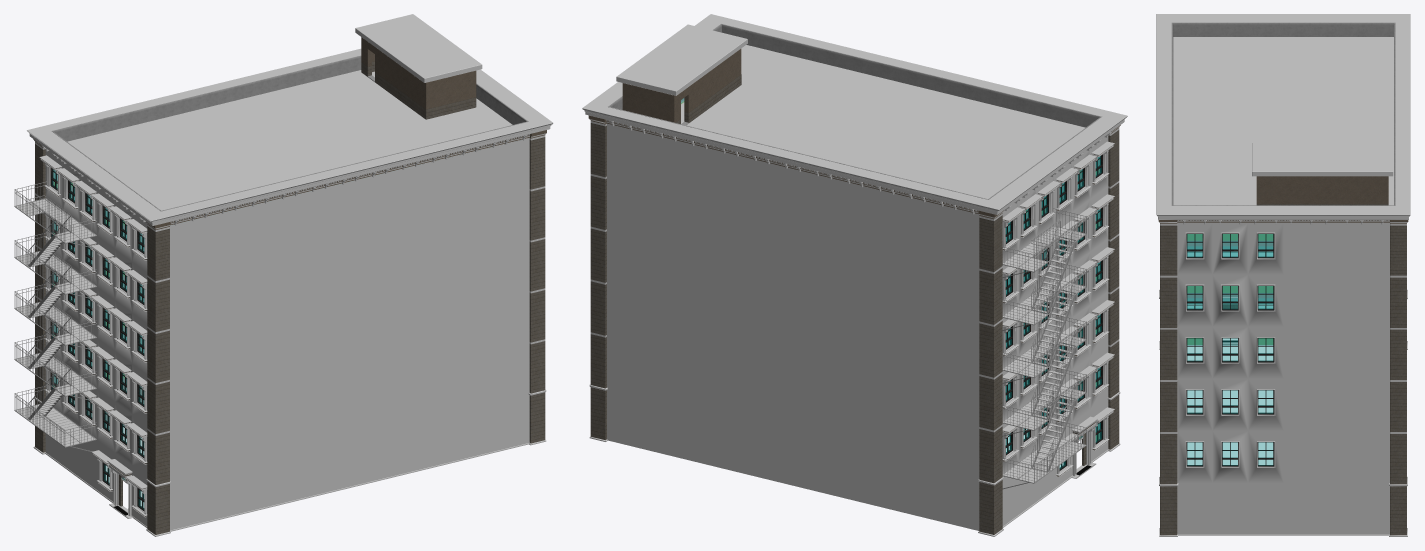
Rendered from SM_Building08_V3.fbx.
3 views of the same model, side by side, from view 1: azimuth 30°, elevation 25°; view 2: azimuth 150°, elevation 25°; view 3: azimuth 270°, elevation 25° (orthographic). The views are drawn at different scales.
Parts seen in each view (by area): view 1: SM_Building08_V3; view 2: SM_Building08_V3; view 3: SM_Building08_V3.
Part boxes in pixels (<box>): SM_Building08_V3: <box>14,14,553,536</box>; SM_Building08_V3: <box>582,14,1127,536</box>; SM_Building08_V3: <box>1156,14,1410,536</box>.
Bounding box in the file's own units: 3541 × 2768 × 1791.
